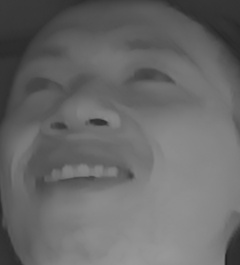eye: (121, 58, 178, 93), (20, 67, 63, 102)
mouth: (27, 146, 139, 202)
